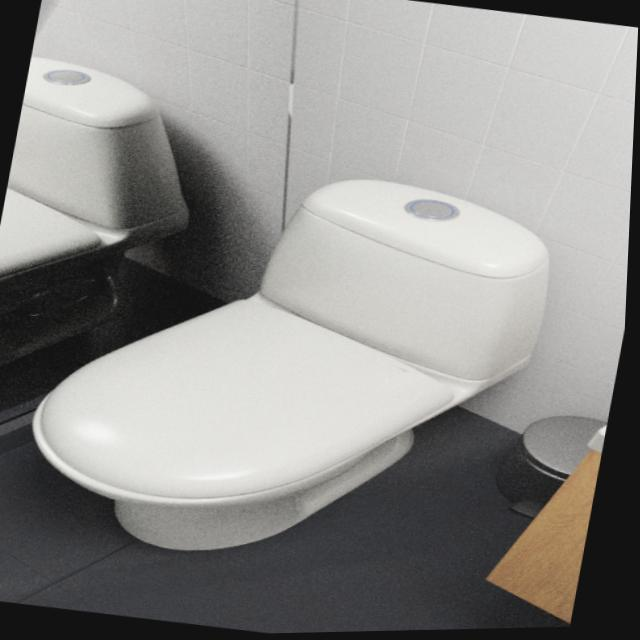toilet: (14, 135, 571, 599)
